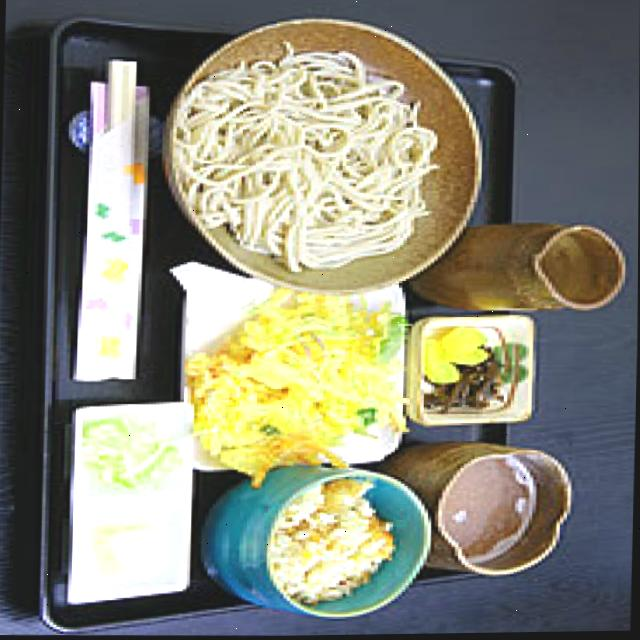面条主食: (138, 0, 527, 308)
